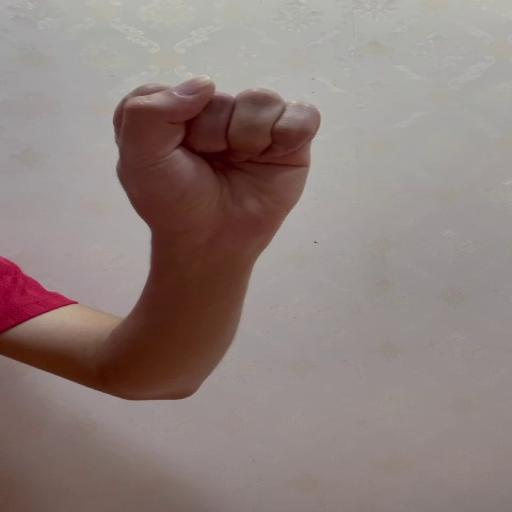fist: (112, 73, 323, 241)
